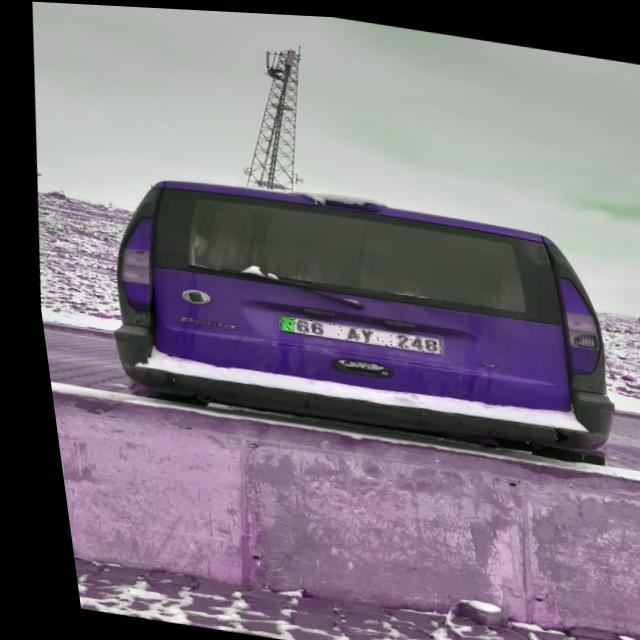license_plate: (267, 311, 436, 351)
